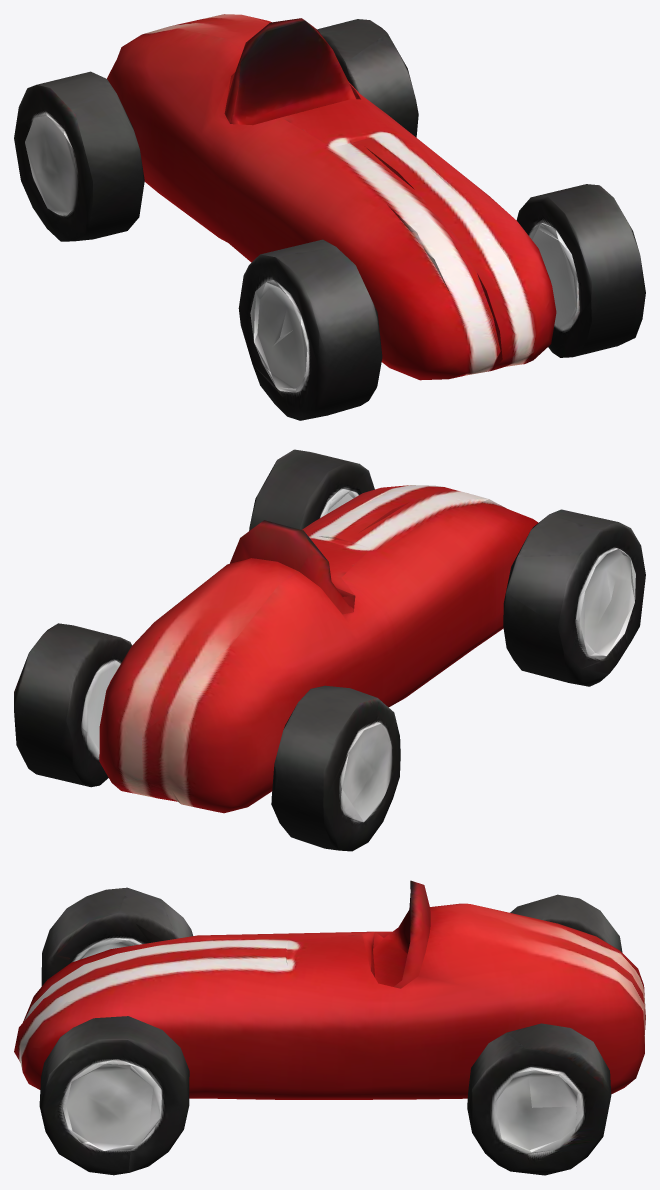
The model's file is toyCar.glb.
3 views of the same model, one above another, from view 1: azimuth 30°, elevation 25°; view 2: azimuth 150°, elevation 25°; view 3: azimuth 270°, elevation 25° (orthographic). The views are drawn at different scales.
Parts seen in each view (by area): view 1: model; view 2: model; view 3: model.
Boxes of the visible parts, x1,y1,x2,y2 form: model: (14, 14, 645, 420); model: (14, 449, 645, 851); model: (14, 880, 645, 1175).
Bounding box in the file's own units: 1.07 × 0.7254 × 1.9.
Materials: 1 (1 with a texture image).
